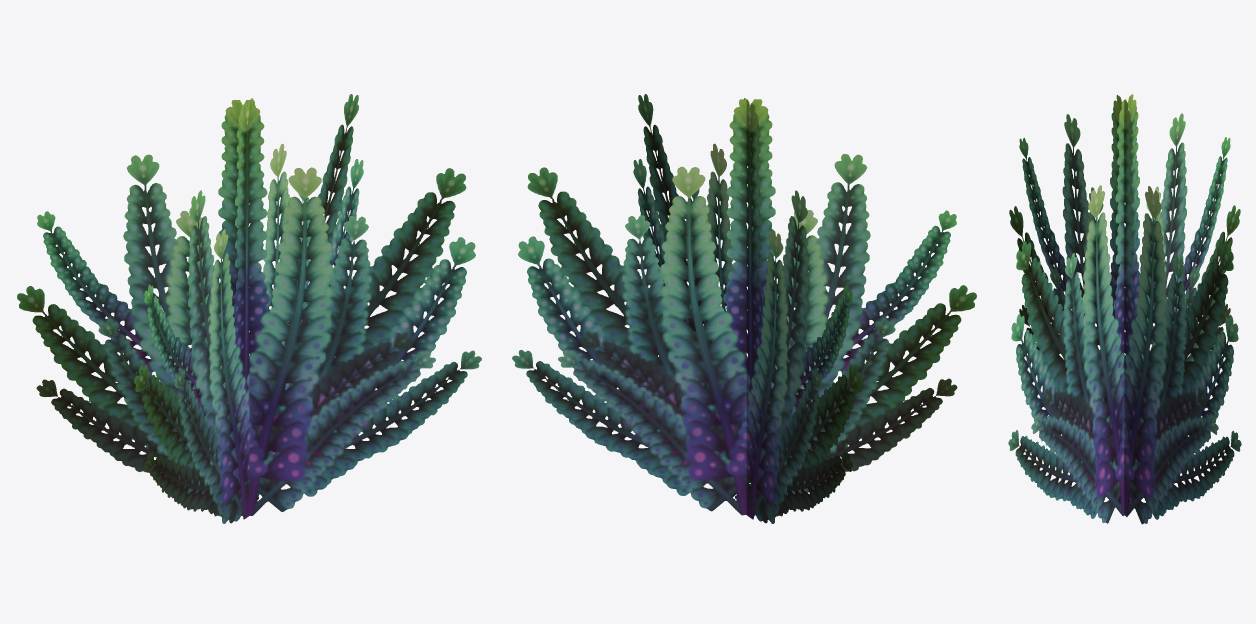
File: SeaWeed_10b.FBX
The picture shows the model from 3 angles, left to right: view 1: azimuth 30°, elevation 25°; view 2: azimuth 150°, elevation 25°; view 3: azimuth 270°, elevation 25°; orthographic projection.
Visible parts, largest first — view 1: SeaWeed_10b; view 2: SeaWeed_10b; view 3: SeaWeed_10b.
Part boxes in pixels (<box>): SeaWeed_10b: <box>17,94,481,523</box>; SeaWeed_10b: <box>512,94,976,523</box>; SeaWeed_10b: <box>1008,94,1241,524</box>.
Bounding box in the file's own units: 37.65 × 43.28 × 21.64.
